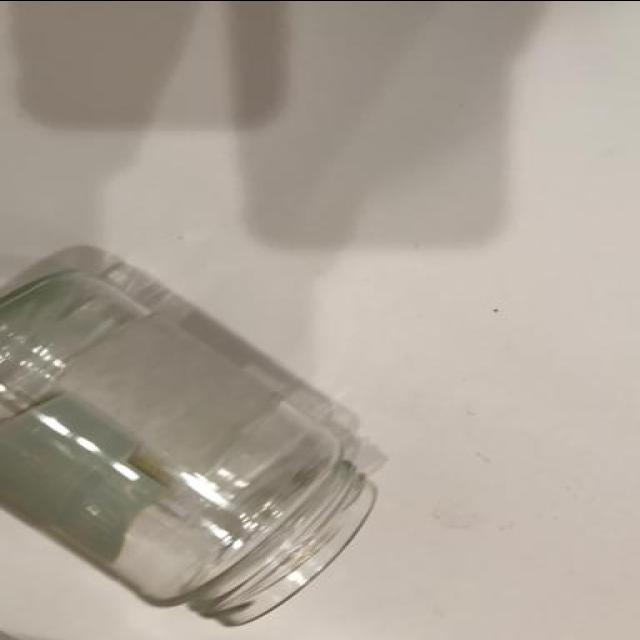glass: (0, 265, 379, 627)
